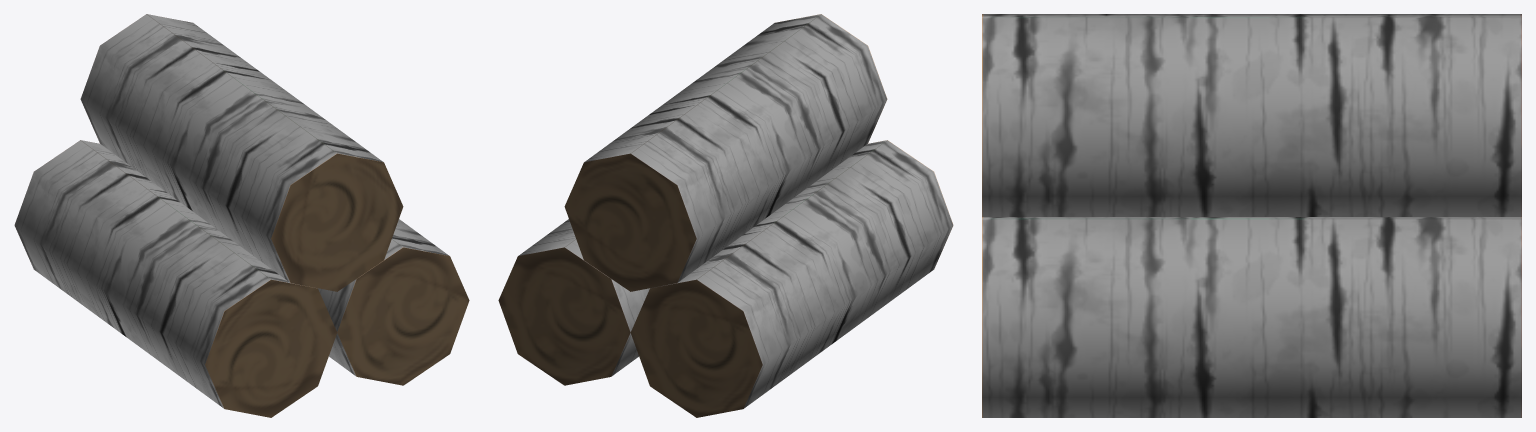
The model's file is BirchDrop.fbx.
3 views of the same model, side by side, from view 1: azimuth 30°, elevation 25°; view 2: azimuth 150°, elevation 25°; view 3: azimuth 270°, elevation 25° (orthographic). The views are drawn at different scales.
Parts seen in each view (by area): view 1: BirchWood; view 2: BirchWood; view 3: BirchWood.
Part boxes in pixels (x1=…): BirchWood: x1=14, y1=14, x2=469, y2=417; BirchWood: x1=498, y1=14, x2=953, y2=417; BirchWood: x1=982, y1=14, x2=1521, y2=417.
Size of the model in its own units: 40 by 35.9 by 50.
